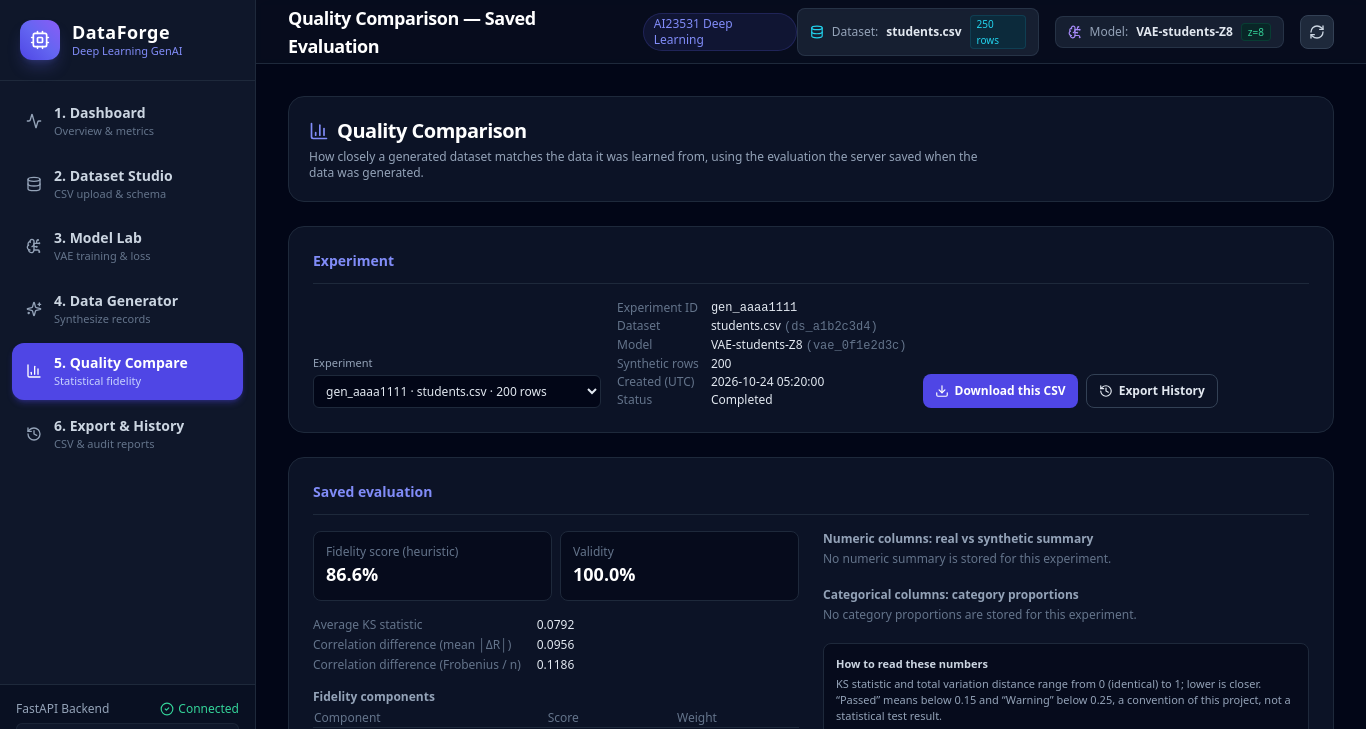
Test case: identifiers travel with the navigation › writes the selection back into the URL
Expected: the text "86.6%" is shown, [326, 562, 378, 586]
Select "gen_bbbb2222 · sales.csv · 200 rows" in the dropdown labelled "Experiment" at (457, 392), box [313, 375, 601, 408]
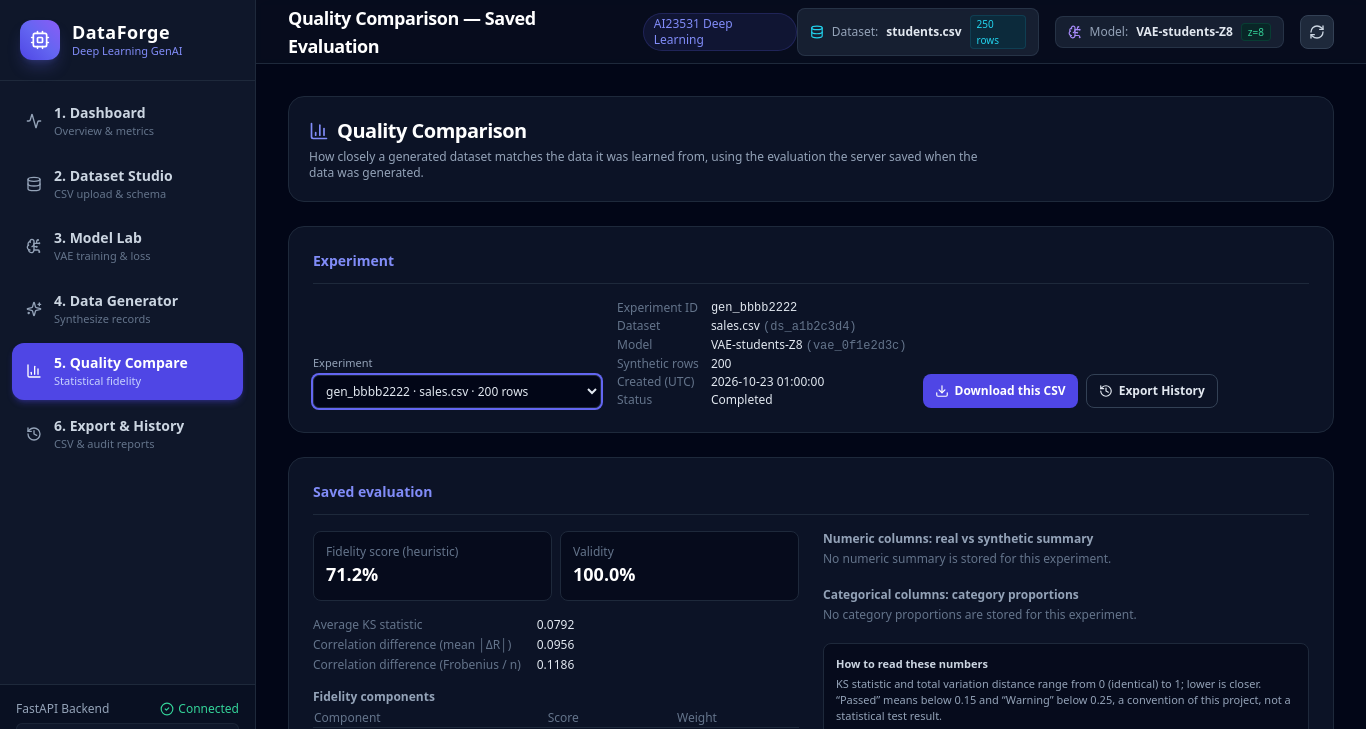
Expected: the text with test id "eval-fidelity" reads "71.2%", [326, 562, 378, 586]
